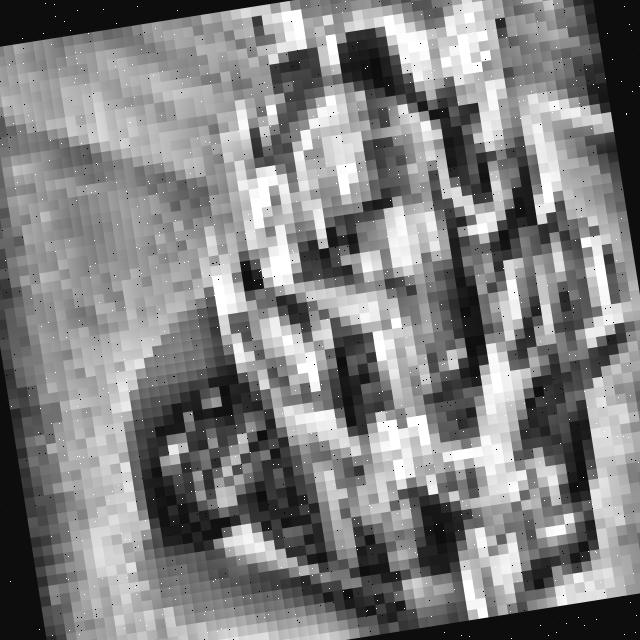mopeds: (30, 1, 640, 640)
